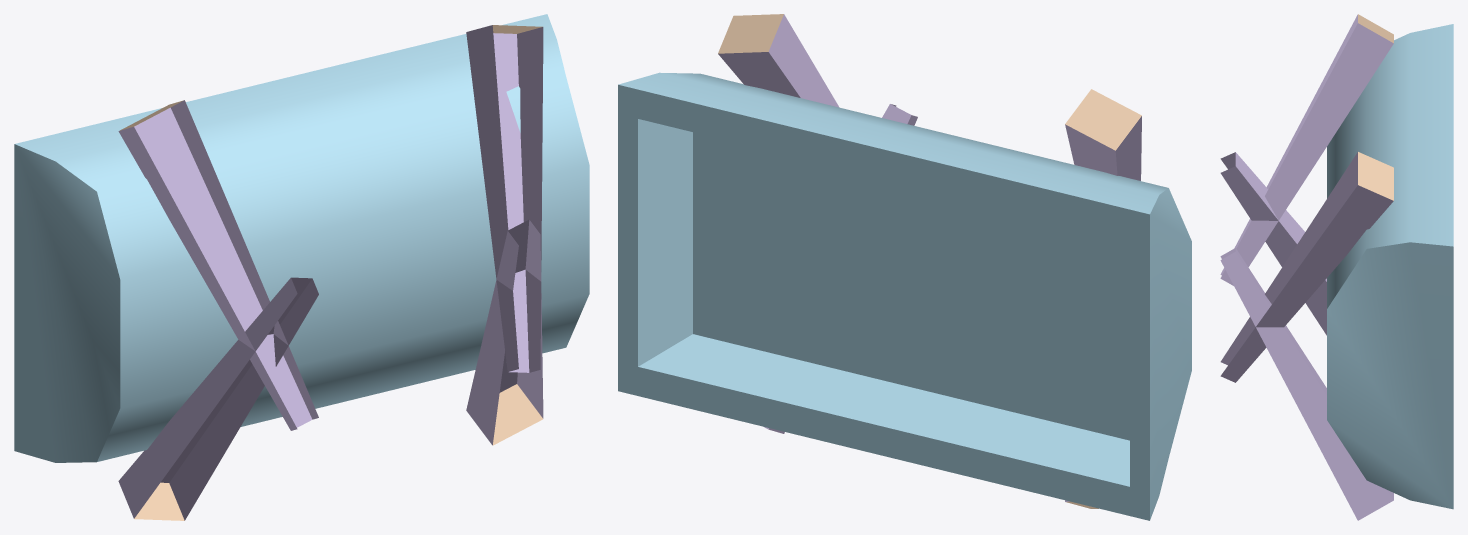
3 renders of one model, left to right at view 1: azimuth 30°, elevation 25°; view 2: azimuth 150°, elevation 25°; view 3: azimuth 270°, elevation 25°, orthographic. The views are drawn at different scales.
Visible parts, largest first — view 1: Object29; view 2: Object29; view 3: Object29.
Part boxes in pixels (<box>): Object29: <box>14,14,589,520</box>; Object29: <box>618,14,1191,520</box>; Object29: <box>1220,14,1453,520</box>.
Bounding box in the file's own units: 10236 × 7725 × 4530.
